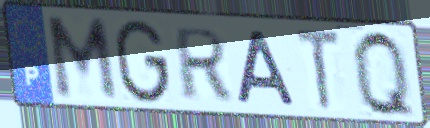A: (235, 28, 300, 108)
G: (113, 17, 173, 107)
M: (43, 14, 122, 105)
Q: (349, 26, 420, 122)
R: (174, 25, 234, 102)
T: (293, 26, 343, 114)
